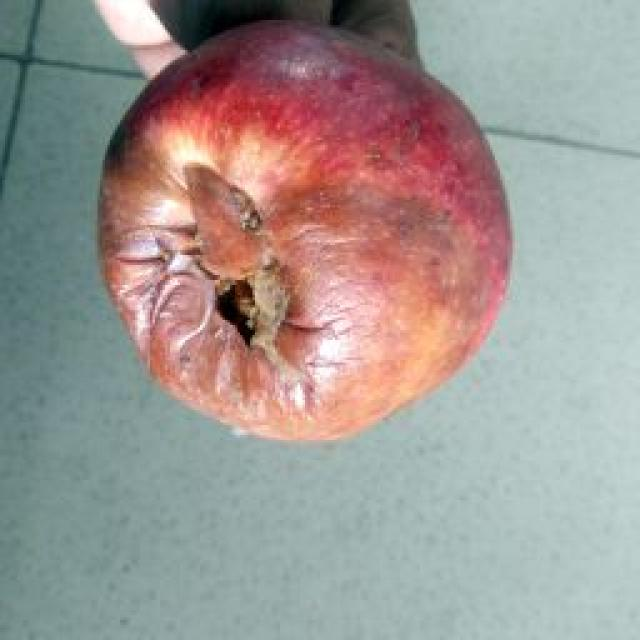Bad_Apple: (100, 22, 510, 439)
